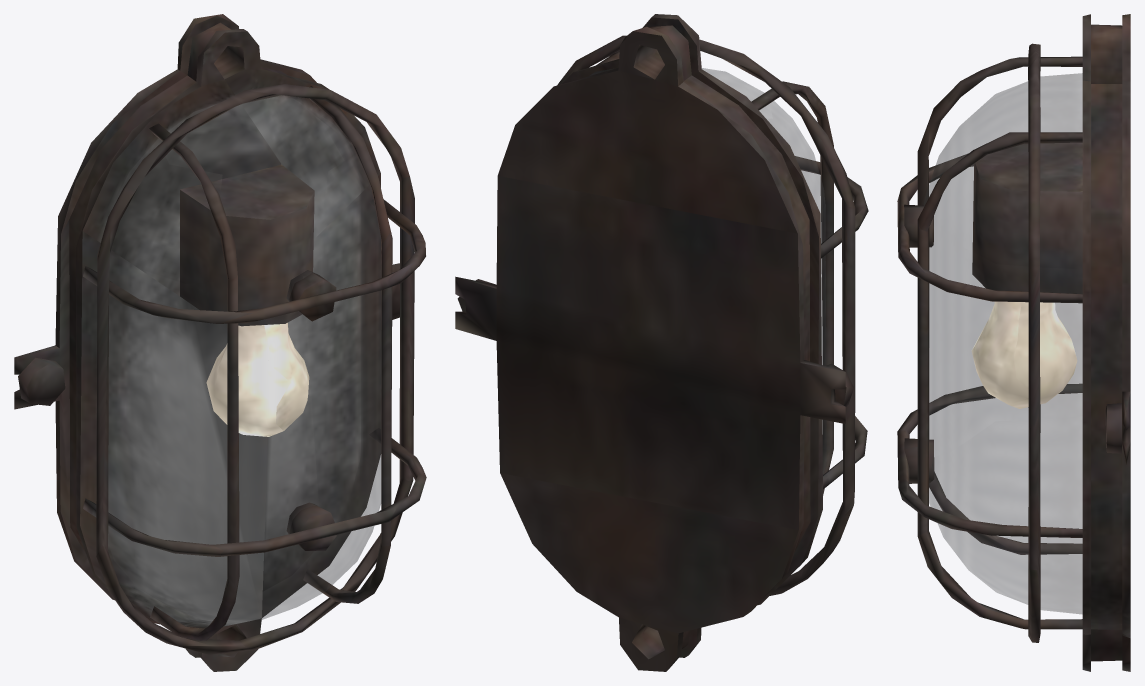
File: wlamp.glb
3 renders of one model, left to right at view 1: azimuth 30°, elevation 25°; view 2: azimuth 150°, elevation 25°; view 3: azimuth 270°, elevation 25°, orthographic.
Parts seen in each view (by area): view 1: industrial_wall_lamp; view 2: industrial_wall_lamp; view 3: industrial_wall_lamp.
Part boxes in pixels (x1,y1,x2,y2): industrial_wall_lamp: [14, 14, 426, 671]; industrial_wall_lamp: [455, 14, 868, 671]; industrial_wall_lamp: [897, 14, 1130, 671].
Size of the model in its own units: 0.2735 by 0.4295 by 0.14.
Materials: 2 (2 with a texture image).
